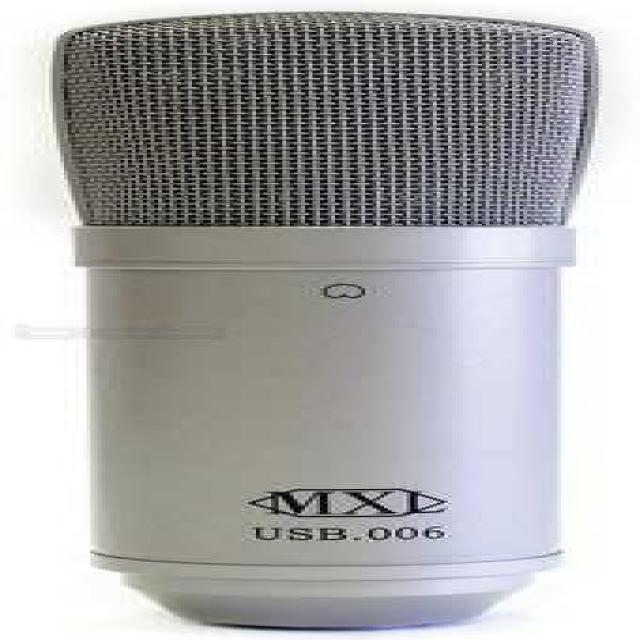microphone: (63, 12, 600, 626)
